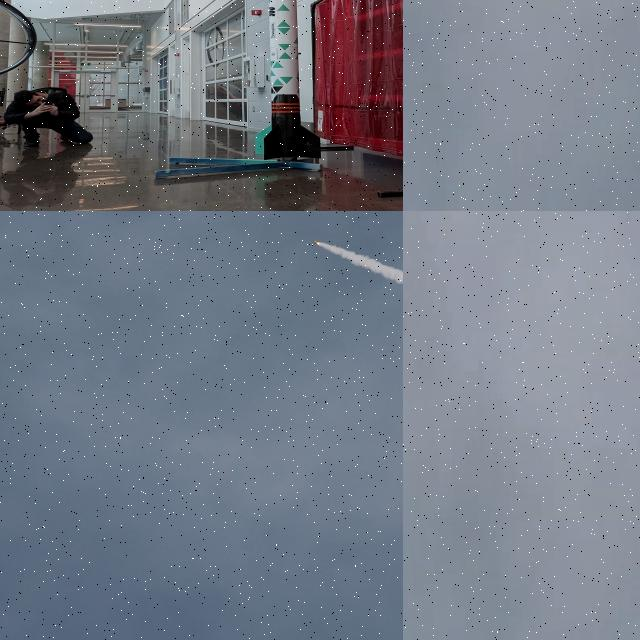Rocket: (254, 0, 321, 160), (313, 240, 320, 246)
